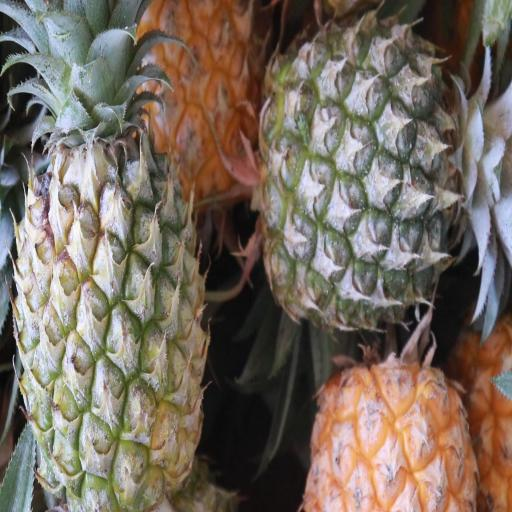Pineapple - v8 v1: (299, 348, 486, 512), (144, 0, 266, 218)
